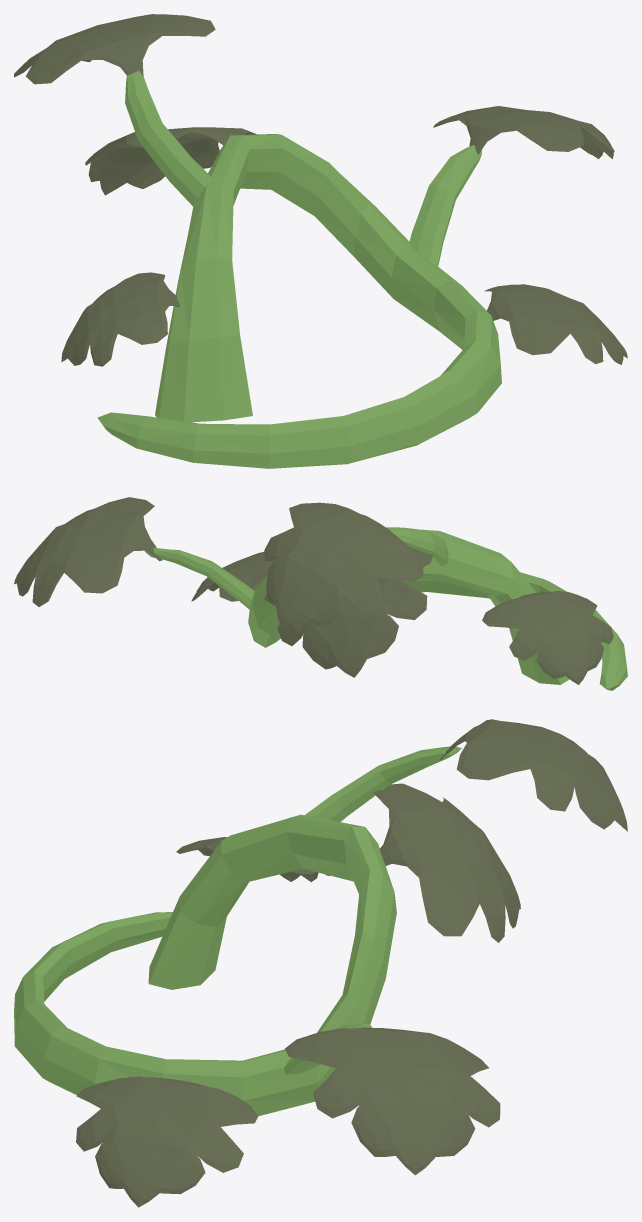
Rendered from Watermelon_Harvested.glb.
3 views of the same model, one above another, from view 1: azimuth 30°, elevation 25°; view 2: azimuth 150°, elevation 25°; view 3: azimuth 270°, elevation 25° (orthographic). The views are drawn at different scales.
Visible parts, largest first — view 1: Watermelon_Harvested; view 2: Watermelon_Harvested; view 3: Watermelon_Harvested.
Boxes of the visible parts, <box> form: Watermelon_Harvested: <box>14,14,627,468</box>; Watermelon_Harvested: <box>14,497,627,690</box>; Watermelon_Harvested: <box>14,719,627,1207</box>.
Bounding box in the file's own units: 1.29 × 0.59 × 1.08.
